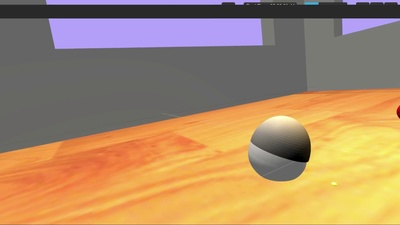mira_robot: (248, 114, 311, 182)
